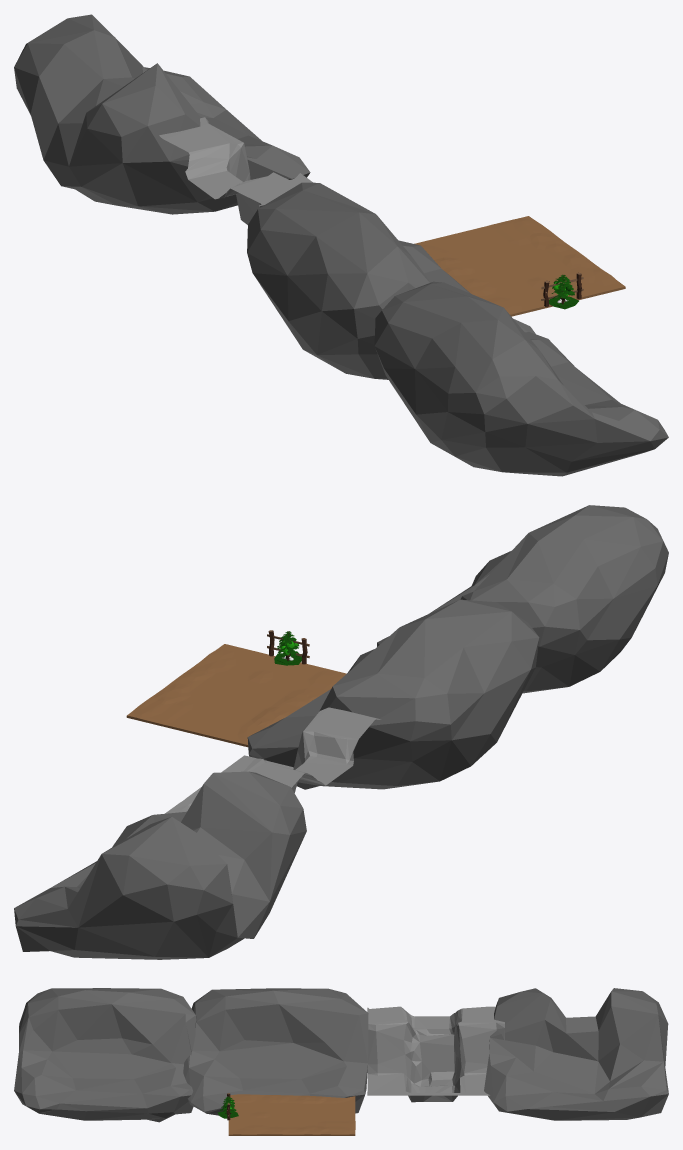
Rendered from environment.fbx.
3 renders of one model, top to bottom at view 1: azimuth 30°, elevation 25°; view 2: azimuth 150°, elevation 25°; view 3: azimuth 270°, elevation 25°, orthographic. The views are drawn at different scales.
Parts seen in each view (by area): view 1: BackgroundRock2, BackgroundRock3, BackgroundRock1, GroundTile, BackgroundWaterfall; view 2: BackgroundRock3, BackgroundRock1, BackgroundRock2, GroundTile, BackgroundWaterfall; view 3: BackgroundRock2, BackgroundRock3, BackgroundRock1, BackgroundWaterfall, GroundTile.
Part boxes in pixels (bbox=[...]): BackgroundRock2: bbox=[374, 281, 668, 476]; BackgroundRock3: bbox=[14, 14, 310, 214]; BackgroundRock1: bbox=[247, 182, 535, 379]; GroundTile: bbox=[414, 216, 625, 316]; BackgroundWaterfall: bbox=[159, 117, 312, 224]; BackgroundRock3: bbox=[14, 771, 306, 959]; BackgroundRock1: bbox=[247, 599, 539, 789]; BackgroundRock2: bbox=[377, 505, 668, 693]; GroundTile: bbox=[126, 644, 346, 747]; BackgroundWaterfall: bbox=[165, 707, 380, 813]; BackgroundRock2: bbox=[14, 988, 196, 1122]; BackgroundRock3: bbox=[484, 988, 668, 1120]; BackgroundRock1: bbox=[183, 988, 368, 1115]; BackgroundWaterfall: bbox=[367, 1006, 504, 1102]; GroundTile: bbox=[228, 1094, 355, 1135].
Size of the model in its own units: 14503 by 7421 by 41294.
